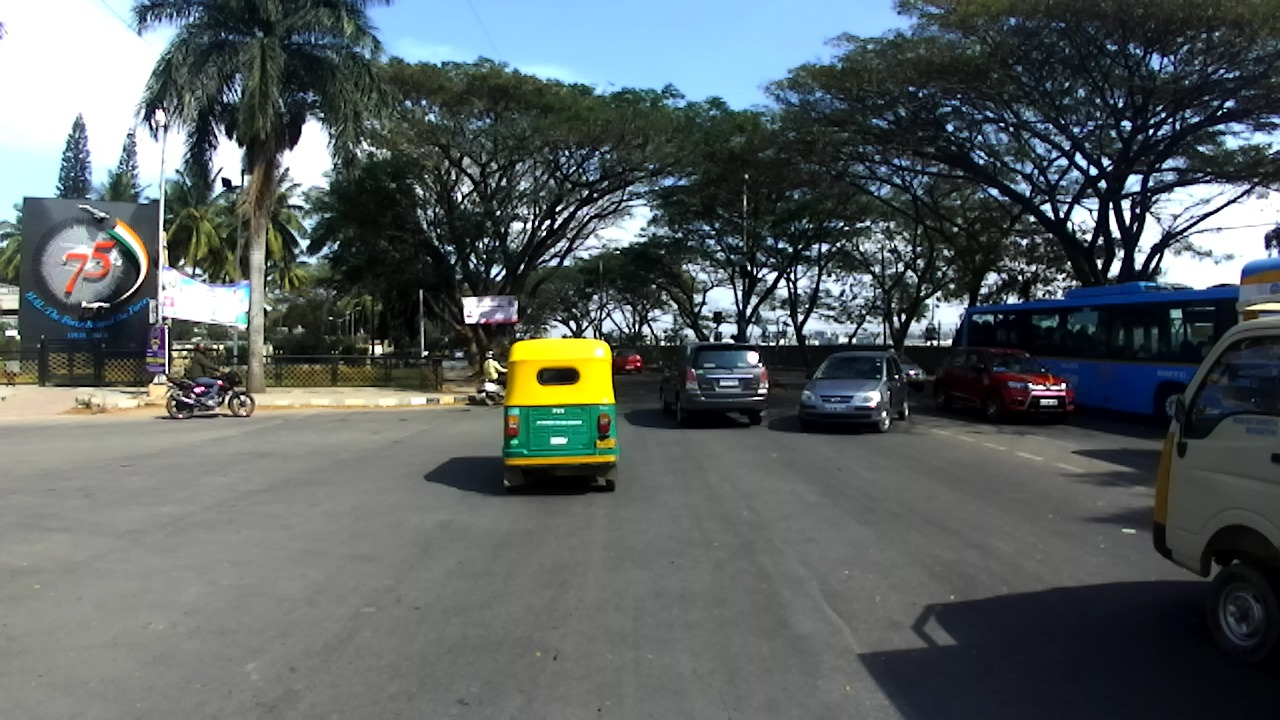autorickshaw: (501, 337, 618, 494)
bus: (963, 281, 1243, 432)
car: (929, 344, 1079, 425), (658, 342, 770, 426), (798, 350, 910, 433), (886, 352, 928, 395), (611, 348, 644, 375), (449, 348, 465, 359)
motorcycle: (161, 368, 256, 421), (476, 371, 516, 406)
rider: (189, 342, 229, 406), (482, 350, 511, 393)
truck: (1152, 302, 1280, 663), (1236, 257, 1278, 345)
